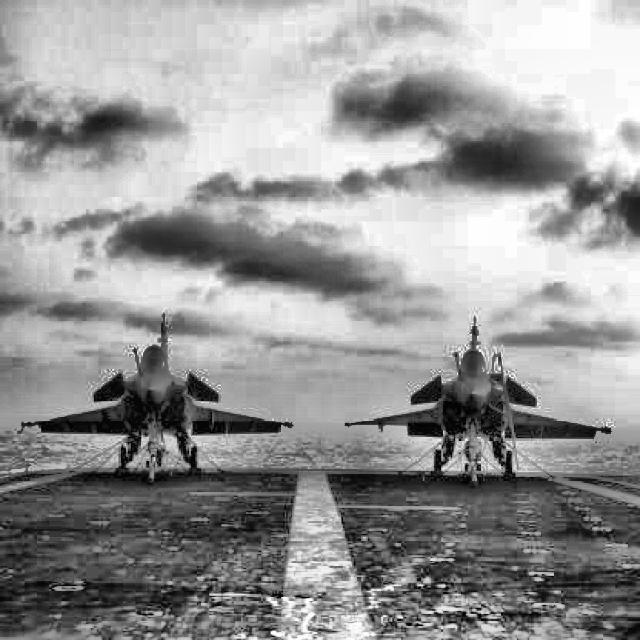Rafale: (16, 313, 295, 469), (345, 316, 612, 472)
